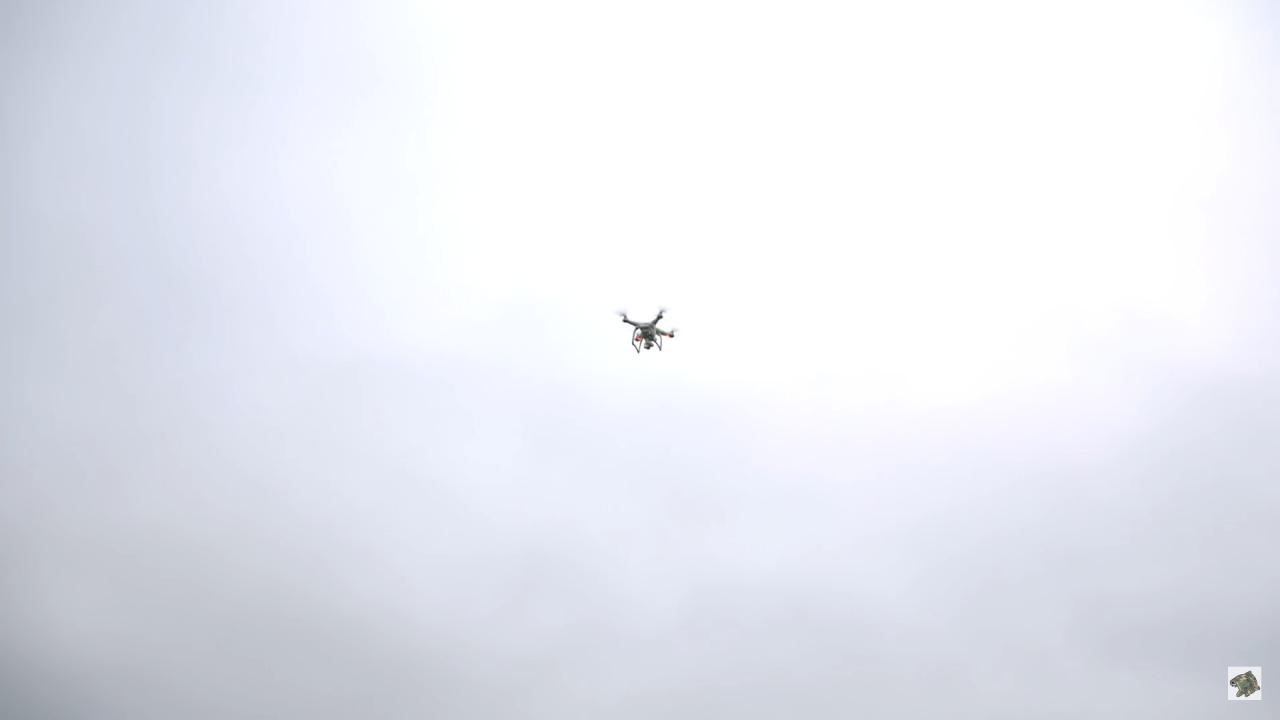Drone: (611, 300, 684, 362)
